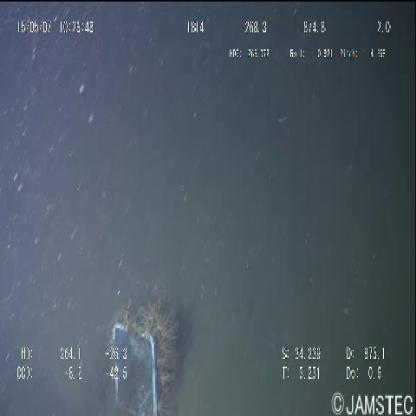Rác: (112, 322, 164, 414)
